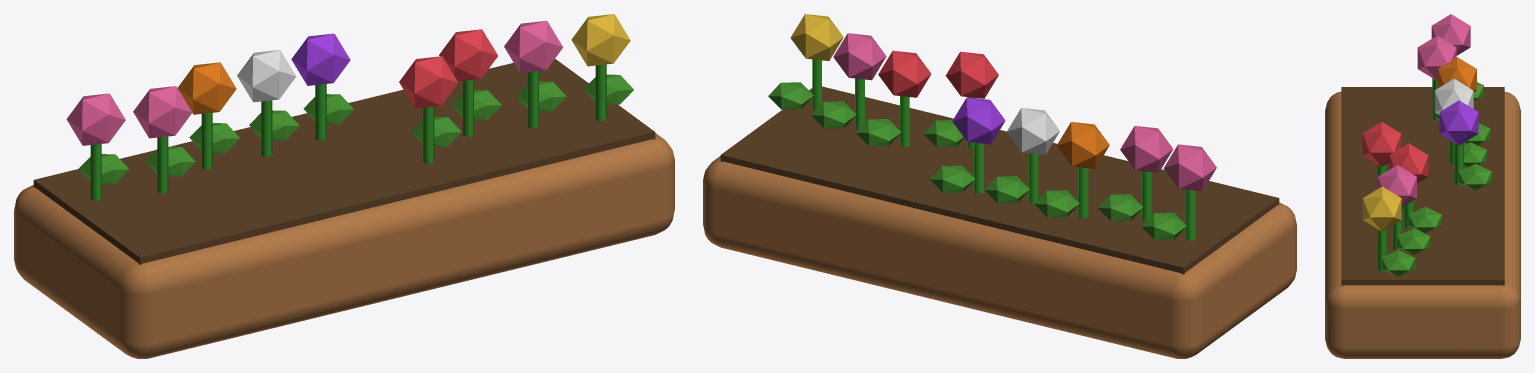
Rendered from flower_bed_3.glb.
The picture shows the model from 3 angles, left to right: view 1: azimuth 30°, elevation 25°; view 2: azimuth 150°, elevation 25°; view 3: azimuth 270°, elevation 25°; orthographic projection. The views are drawn at different scales.
Parts seen in each view (by area): view 1: FlowerBed; view 2: FlowerBed; view 3: FlowerBed.
Part boxes in pixels (x1,y1,x2,y2): FlowerBed: (14, 14, 674, 358); FlowerBed: (703, 14, 1296, 358); FlowerBed: (1325, 14, 1520, 358).
Size of the model in its own units: 3 by 1.06 by 1.2.
